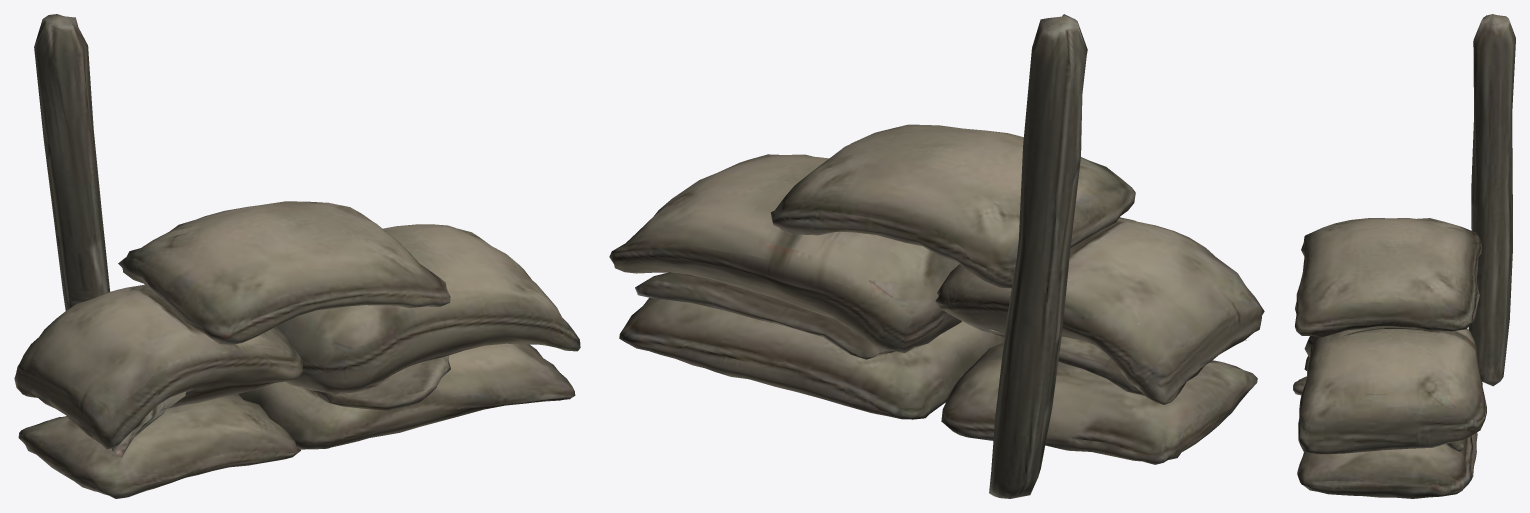
The model's file is pv_sacos.glb.
The picture shows the model from 3 angles, left to right: view 1: azimuth 30°, elevation 25°; view 2: azimuth 150°, elevation 25°; view 3: azimuth 270°, elevation 25°; orthographic projection. The views are drawn at different scales.
Parts seen in each view (by area): view 1: Mesh_0; view 2: Mesh_0; view 3: Mesh_0.
Boxes of the visible parts, x1,y1,x2,y2 form: Mesh_0: (14,14,580,498); Mesh_0: (609,14,1264,498); Mesh_0: (1293,14,1515,498).
Size of the model in its own units: 0.2461 by 0.2134 by 0.1233.
1 material, 1 textured.
